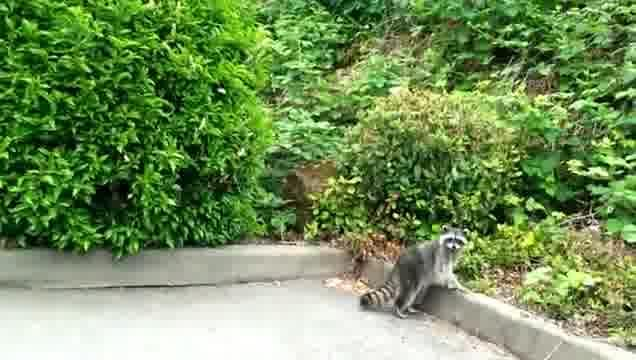raccoon: (360, 224, 469, 320)
